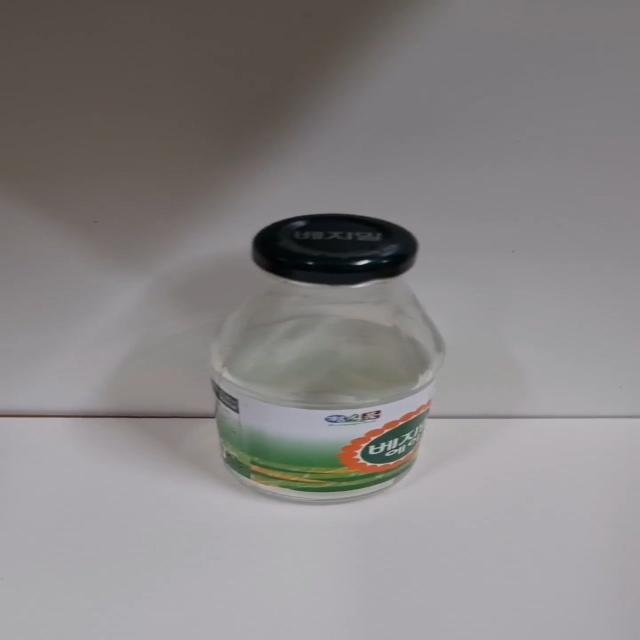Glass: (207, 209, 452, 506)
